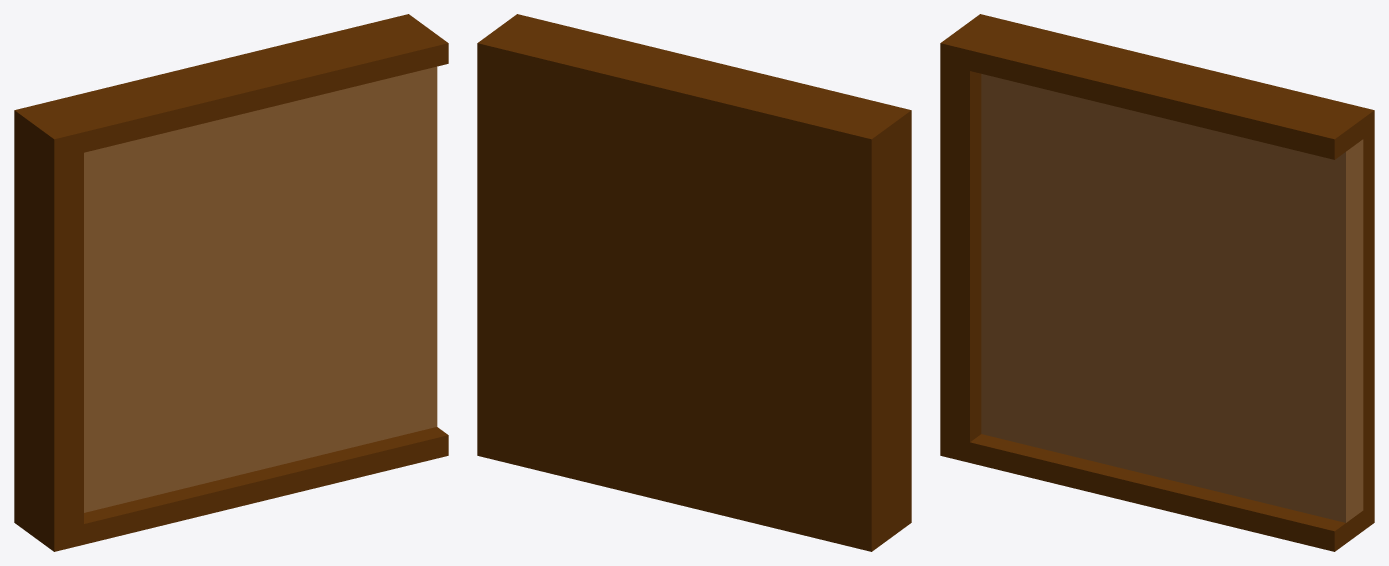
File: saloon-19.obj
The picture shows the model from 3 angles, left to right: view 1: azimuth 30°, elevation 25°; view 2: azimuth 150°, elevation 25°; view 3: azimuth 330°, elevation 25°; orthographic projection.
Size of the model in its own units: 4 by 4 by 0.7.
1 material, 1 textured.
